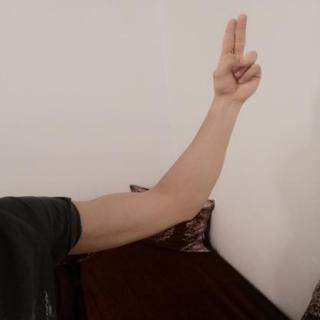TA: (200, 8, 272, 107)
